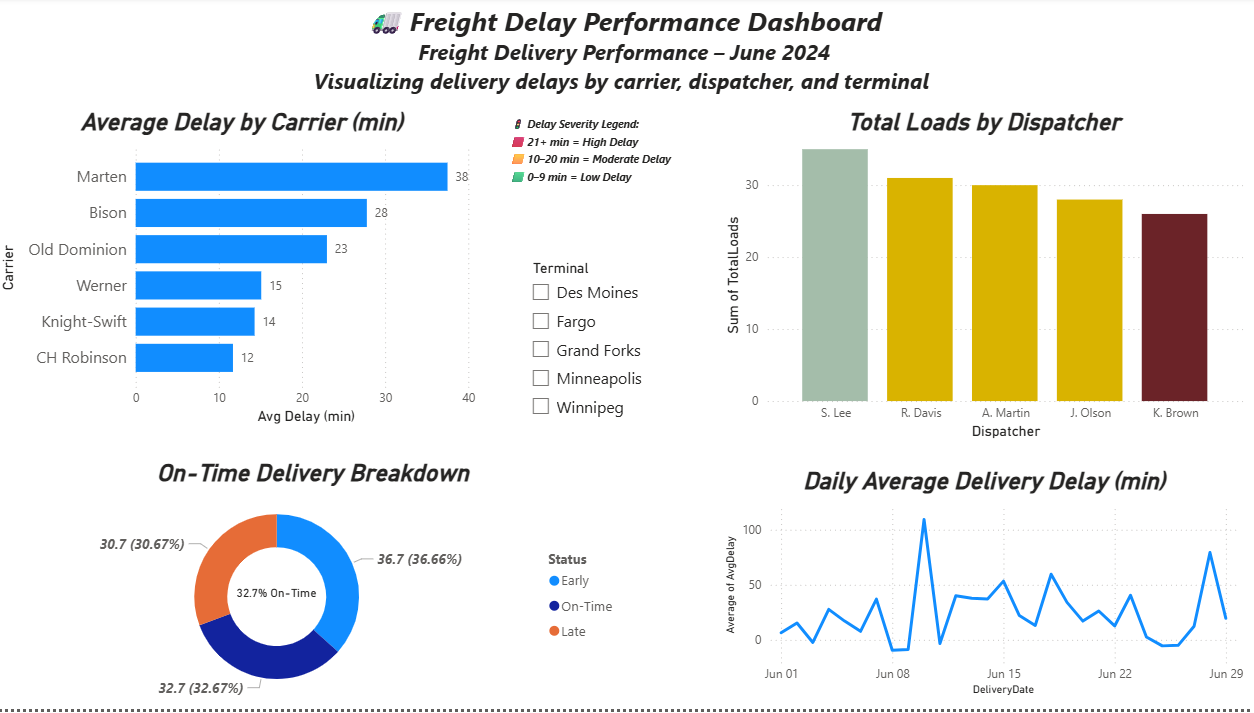

What the dashboard file says about the page in this screenshot:
{"tool":"powerbi","page":{"name":"Page 1","canvas":[1280,720],"ordinal":0},"visuals":[{"type":"clusteredBarChart","title":"Average Delay by Carrier (min)","fields":{"Y":["Sum(carrier_delay_summary_dax.AvgDelay)"],"Category":["carrier_delay_summary_dax.Carrier"]},"box":[427.1,366.7,434.6,264.4],"z":0},{"type":"clusteredColumnChart","title":"Avg Delay by Dispatcher (min)","fields":{"Category":["dispatcher_delay_summary_dax.Dispatcher"],"Y":["Sum(dispatcher_delay_summary_dax.TotalLoads)"]},"box":[871.7,126.6,401.6,218.9],"z":1000},{"type":"lineChart","title":"Daily Average Delivery Delay (min)","fields":{"Category":["daily_delay_trend_dax.DeliveryDate.Variation.Date Hierarchy.Year","daily_delay_trend_dax.DeliveryDate.Variation.Date Hierarchy.Quarter","daily_delay_trend_dax.DeliveryDate.Variation.Date Hierarchy.Month","daily_delay_trend_dax.DeliveryDate.Variation.Date Hierarchy.Day"],"Y":["Sum(daily_delay_trend_dax.AvgDelay)"]},"box":[10.6,366.7,404.1,346.1],"z":2000},{"type":"textbox","box":[278.1,6.9,705.9,112.9],"z":3000},{"type":"hundredPercentStackedColumnChart","title":"Delivery Severity by Dispatcher","fields":{"Category":["freight_delay_data.Dispatcher"],"Y":["CountNonNull(freight_delay_data.LoadID)"],"Series":["DelayCategoryLookup.DelayCategory"]},"box":[871.1,366.7,402.2,346.1],"z":4000},{"type":"textbox","box":[427.1,126.6,217.6,218.9],"z":5000},{"type":"textbox","box":[1003.9,6.9,269.4,102.9],"z":6000},{"type":"slicer","fields":{"Values":["TerminalTable.Terminal"]},"box":[659.1,126.6,197,218.9],"z":7000},{"type":"donutChart","title":"Overall Delivery Punctuality","fields":{"Category":["on_time_breakdown.Status"],"Y":["Sum(on_time_breakdown.TotalLoads)"]},"box":[10.6,126.6,404.1,218.9],"z":7500,"group":"g1"},{"type":"cardVisual","fields":{"Data":["on_time_breakdown.OnTimeLabel"]},"box":[95,215.4,146.5,61.7],"z":7750,"group":"g1"},{"type":"textbox","box":[10.6,6.9,249.4,102.9],"z":8000},{"type":"group","id":"g1","title":"Group 1","box":[10.6,126.6,404.1,218.9],"z":9000},{"type":"textbox","box":[427.1,638.5,434.6,74.2],"z":10000}]}

Visuals, with their boxes in screenshot pixels (x1, y1, x2, y2), scaled from the page's 1280x720 canvas onto the 1254x713 screenshot:
"Average Delay by Carrier (min)" clusteredBarChart: box(418, 363, 844, 625)
"Avg Delay by Dispatcher (min)" clusteredColumnChart: box(854, 125, 1247, 342)
"Daily Average Delivery Delay (min)" lineChart: box(10, 363, 406, 706)
textbox: box(272, 7, 964, 119)
"Delivery Severity by Dispatcher" hundredPercentStackedColumnChart: box(853, 363, 1247, 706)
textbox: box(418, 125, 632, 342)
textbox: box(984, 7, 1247, 109)
slicer - TerminalTable.Terminal: box(646, 125, 839, 342)
"Overall Delivery Punctuality" donutChart: box(10, 125, 406, 342)
cardVisual - on_time_breakdown.OnTimeLabel: box(93, 213, 237, 274)
textbox: box(10, 7, 255, 109)
"Group 1" group: box(10, 125, 406, 342)
textbox: box(418, 632, 844, 706)
